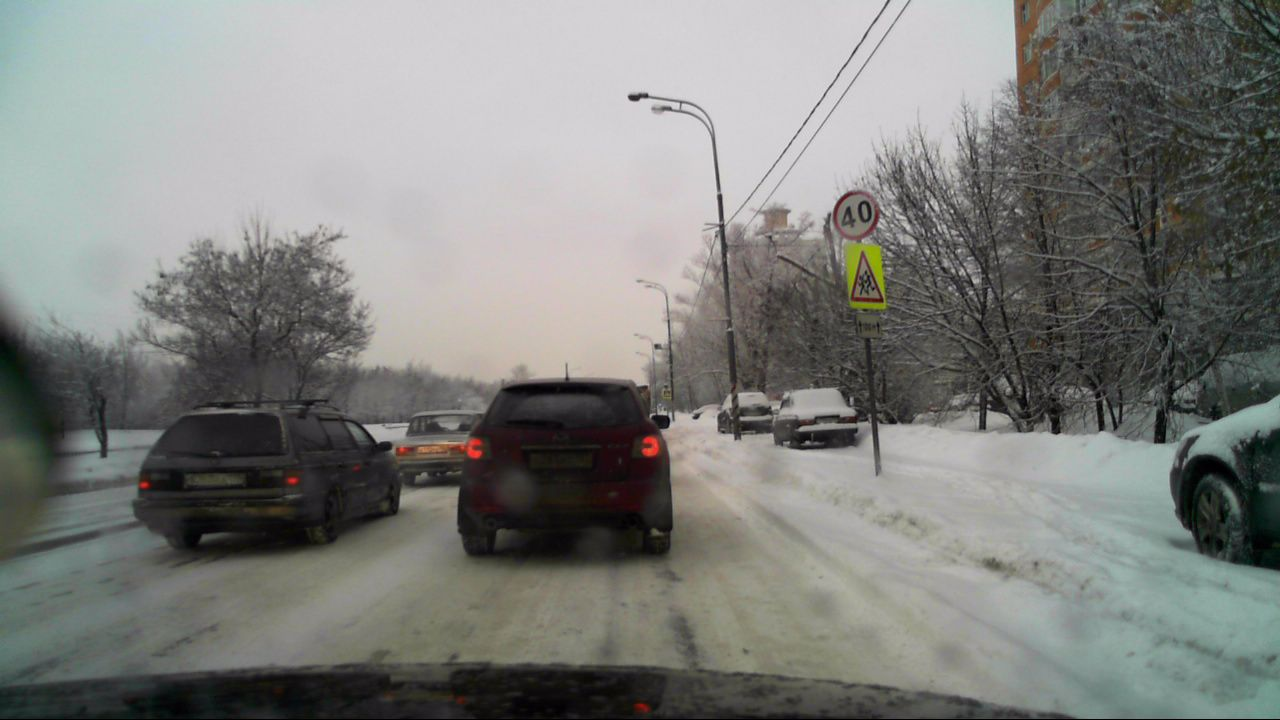speed_warning_40: (830, 188, 878, 239)
